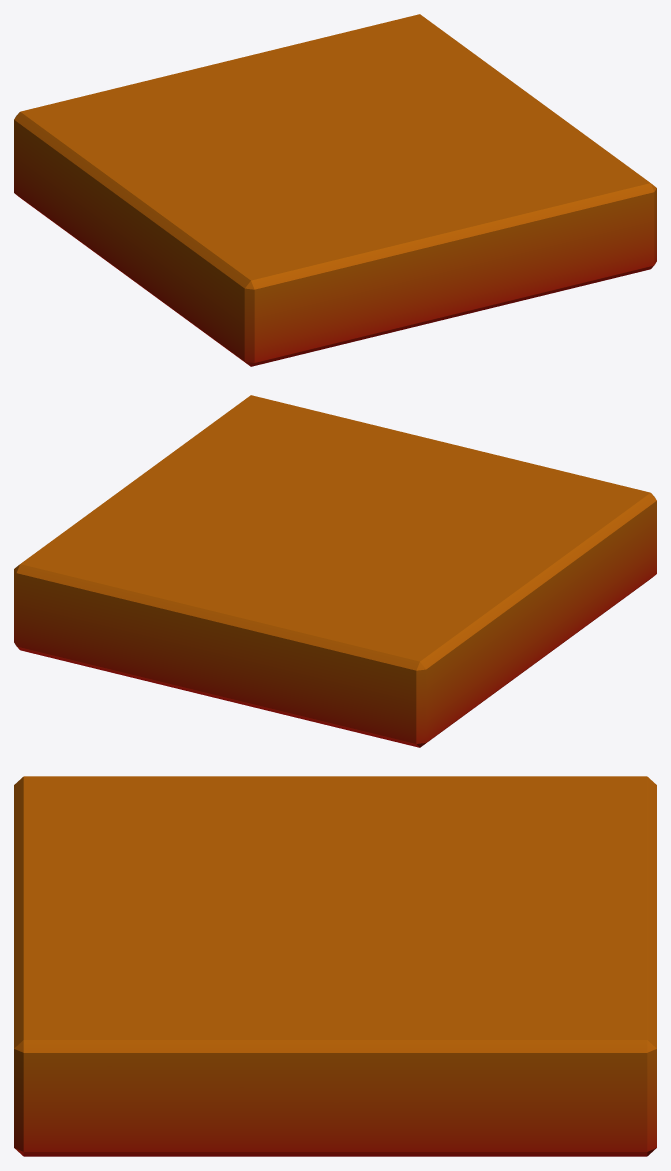
The model's file is floor_slab.glb.
3 views of the same model, one above another, from view 1: azimuth 30°, elevation 25°; view 2: azimuth 150°, elevation 25°; view 3: azimuth 270°, elevation 25° (orthographic). The views are drawn at different scales.
Parts seen in each view (by area): view 1: floor_slab; view 2: floor_slab; view 3: floor_slab.
Boxes of the visible parts, bbox=[...] form: floor_slab: bbox=[14, 14, 656, 366]; floor_slab: bbox=[14, 395, 656, 747]; floor_slab: bbox=[14, 776, 656, 1156].
Size of what is drawn, in the model's own units: 2 by 0.4 by 2.
